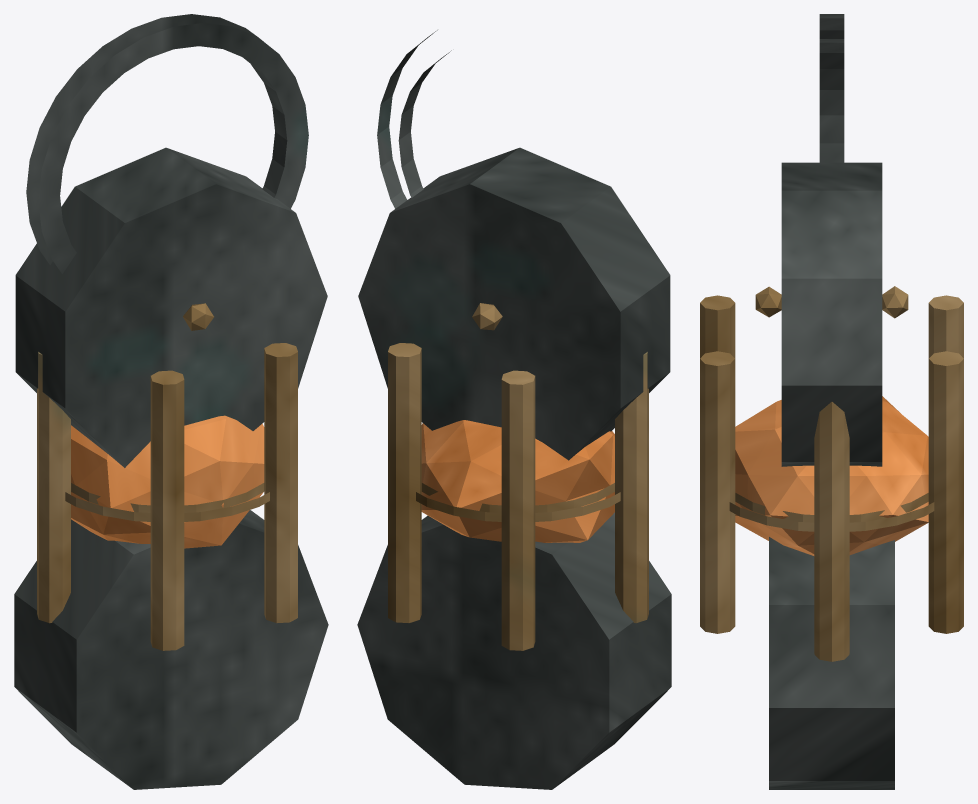
File: 0907_lantern_07.glb
The picture shows the model from 3 angles, left to right: view 1: azimuth 30°, elevation 25°; view 2: azimuth 150°, elevation 25°; view 3: azimuth 270°, elevation 25°; orthographic projection.
Visible parts, largest first — view 1: iron, brass, amber; view 2: iron, brass, amber; view 3: iron, brass, amber.
Part boxes in pixels (bbox=[...]): iron: bbox=[14, 14, 328, 789]; brass: bbox=[37, 303, 297, 650]; amber: bbox=[71, 415, 264, 548]; iron: bbox=[357, 30, 671, 789]; brass: bbox=[388, 303, 648, 650]; amber: bbox=[421, 420, 614, 542]; iron: bbox=[769, 14, 894, 789]; brass: bbox=[700, 286, 963, 661]; amber: bbox=[735, 396, 928, 555].
Size of the model in its own units: 0.5 by 1.32 by 0.4197.
Materials: 3 (3 with a texture image).
